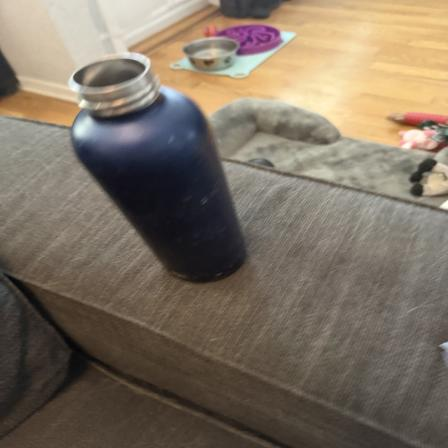blue_bottle: (66, 54, 262, 286)
